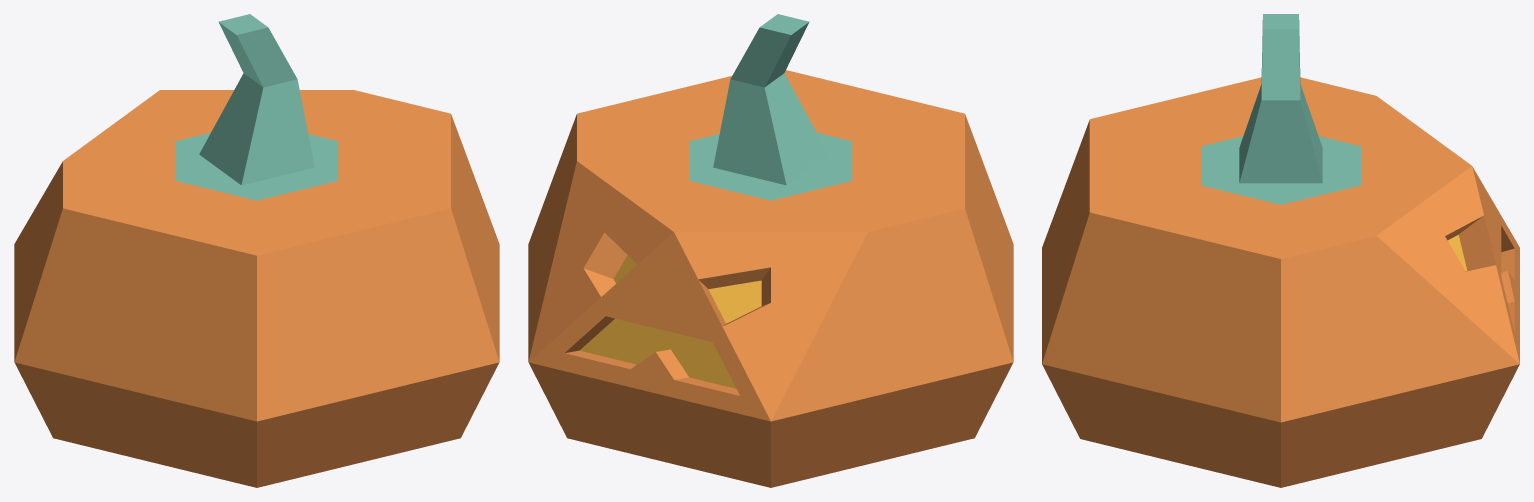
The model's file is pumpkinCarved.fbx.
3 renders of one model, left to right at view 1: azimuth 30°, elevation 25°; view 2: azimuth 150°, elevation 25°; view 3: azimuth 270°, elevation 25°, orthographic.
Parts seen in each view (by area): view 1: pumpkinCarved; view 2: pumpkinCarved; view 3: pumpkinCarved.
Part boxes in pixels (x1=…): pumpkinCarved: x1=14, y1=14, x2=499, y2=487; pumpkinCarved: x1=528, y1=14, x2=1013, y2=487; pumpkinCarved: x1=1042, y1=14, x2=1519, y2=487.
Bounding box in the file's own units: 3.57 × 2.58 × 3.09.
